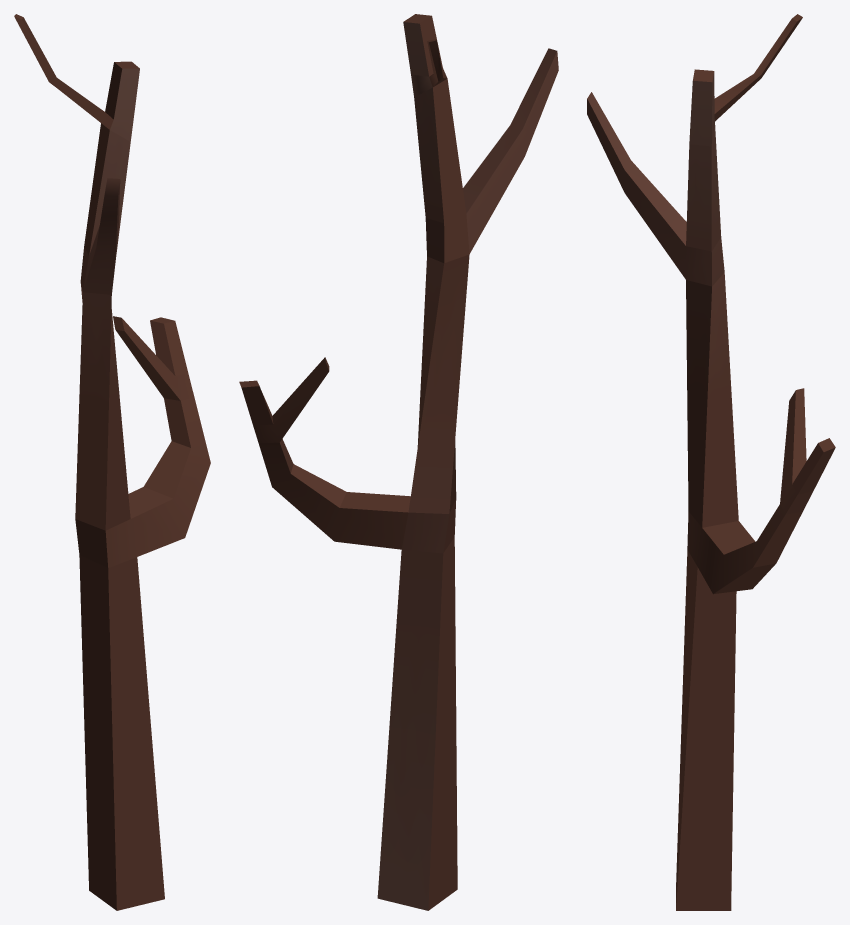
The model's file is treeBare.fbx.
3 views of the same model, side by side, from view 1: azimuth 30°, elevation 25°; view 2: azimuth 150°, elevation 25°; view 3: azimuth 270°, elevation 25° (orthographic). The views are drawn at different scales.
Visible parts, largest first — view 1: pCube1; view 2: pCube1; view 3: pCube1.
Boxes of the visible parts, x1,y1,x2,y2 form: pCube1: [14, 14, 210, 910]; pCube1: [239, 14, 558, 910]; pCube1: [587, 14, 835, 910].
Size of the model in its own units: 1.15 by 5.04 by 1.33.
1 material, 1 textured.
